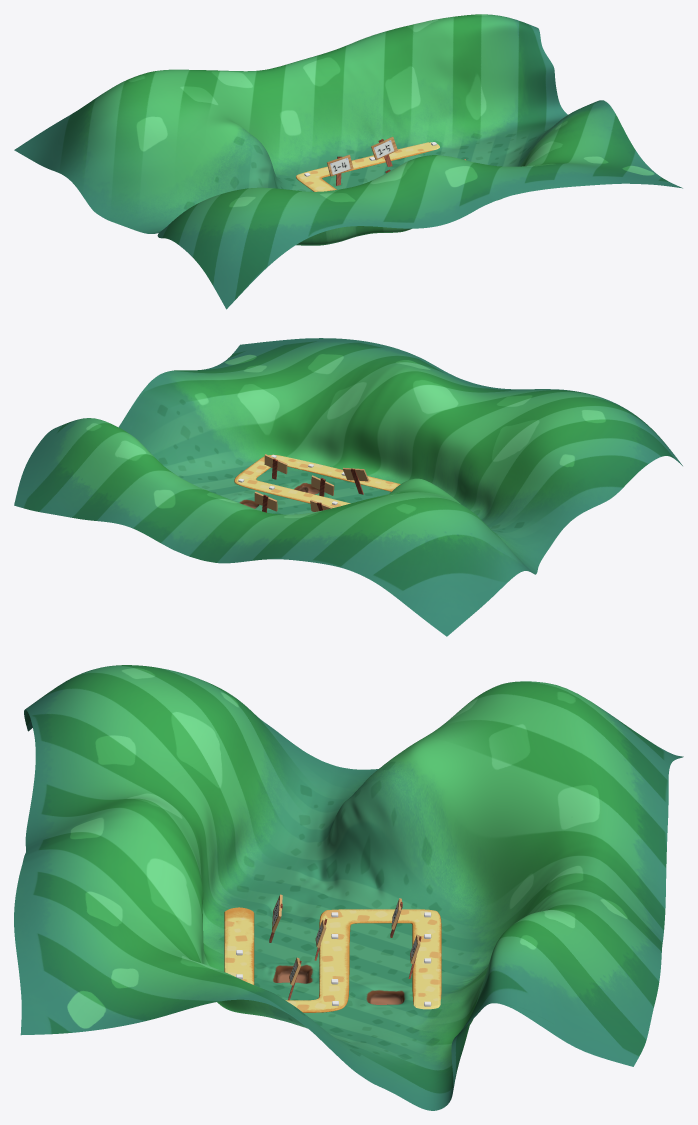
Rendered from stage1_select_ground.fbx.
3 renders of one model, top to bottom at view 1: azimuth 30°, elevation 25°; view 2: azimuth 150°, elevation 25°; view 3: azimuth 270°, elevation 25°, orthographic. The views are drawn at different scales.
Visible parts, largest first — view 1: mountain, road01; view 2: mountain, road01; view 3: mountain, road01.
Part boxes in pixels (x1,y1,x2,y2): mountain: (14,14,682,309); road01: (296,142,439,191); mountain: (14,338,682,636); road01: (234,454,400,507); mountain: (14,665,683,1110); road01: (224,907,441,1012).
Size of the model in its own units: 32.38 by 7.24 by 26.54.
